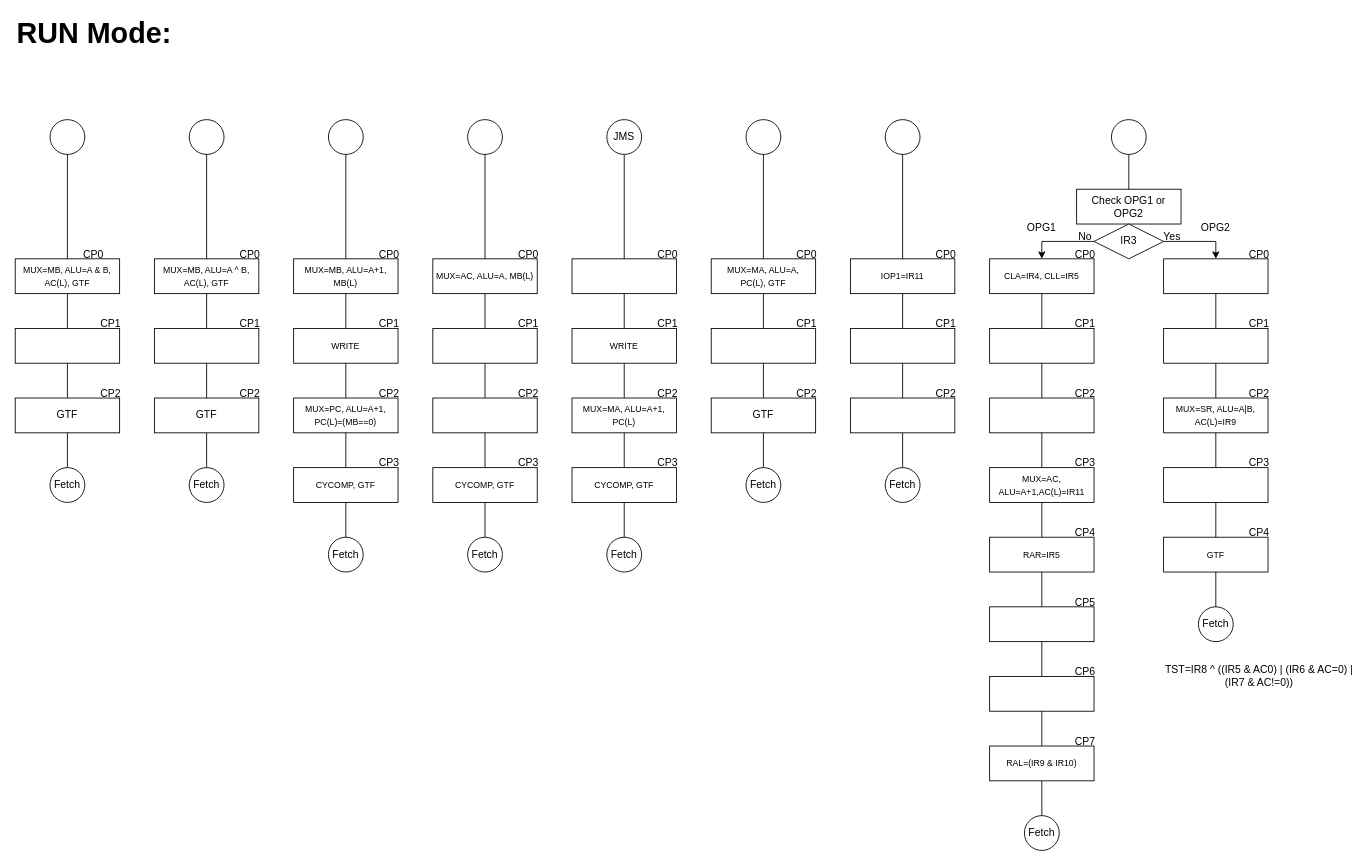
Image size: 1370x866. Some labels were removed from this diagram. Here are the shapes that lost their labels. From the top down, the centre of each, then its label:
At pixel 67 136: "AND".
At pixel 206 136: "TAD".
At pixel 345 136: "ISZ".
At pixel 484 136: "DCA".
At pixel 763 136: "JMP".
At pixel 902 136: "IOT".
At pixel 1128 136: "MIC".
At pixel 623 276: "MUX=PC, ALU=A, MB(L)".
At pixel 1215 276: "MUX=PC, ALU=A+1, PC(L)=TST".
At pixel 484 345: "WRITE, CLA".
At pixel 902 345: "IOP2=IR10".
At pixel 1215 345: "CLA=IR4".
At pixel 902 415: "IOP4=IR9, GTF".
At pixel 1041 415: "CML=IR7, MUX=AC,ALU=!A, AC(L)=IR6".
At pixel 1215 484: "HLT=IR10".
At pixel 1041 624: "RAR=(IR8 & IR10)".
At pixel 1041 693: "(RAL=IR9)".
